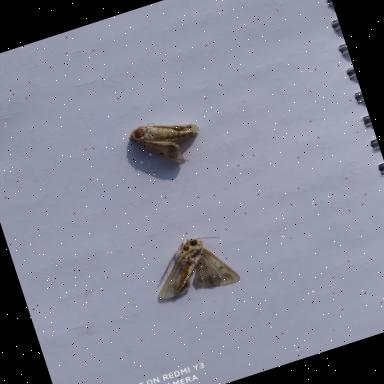abw: (142, 225, 243, 313), (124, 108, 208, 177)
